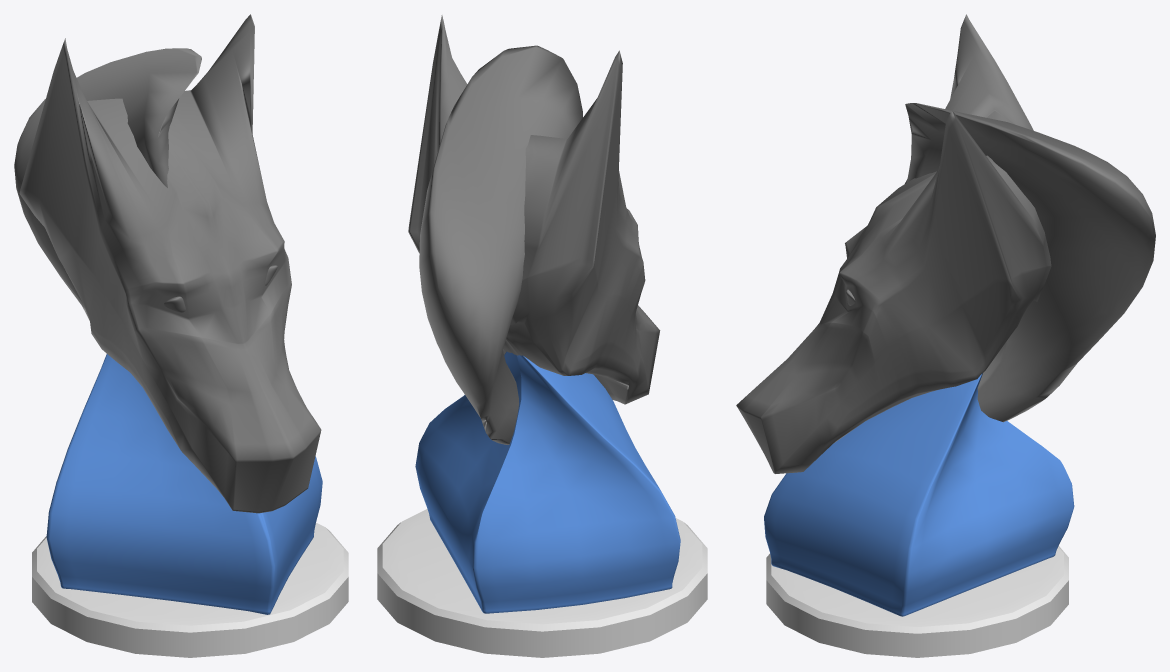
The model's file is knight.fbx.
3 renders of one model, left to right at view 1: azimuth 30°, elevation 25°; view 2: azimuth 150°, elevation 25°; view 3: azimuth 270°, elevation 25°, orthographic. The views are drawn at different scales.
Parts seen in each view (by area): view 1: Box029, Cylinder024; view 2: Box029, Cylinder024; view 3: Box029, Cylinder024.
Boxes of the visible parts, box(x1,y1,x2,y2) form: Box029: box(14, 14, 322, 614); Cylinder024: box(32, 522, 348, 657); Box029: box(408, 15, 680, 613); Cylinder024: box(377, 509, 707, 657); Box029: box(736, 14, 1155, 616); Cylinder024: box(766, 546, 1068, 657).
Bounding box in the file's own units: 37.65 × 72.02 × 51.42.
